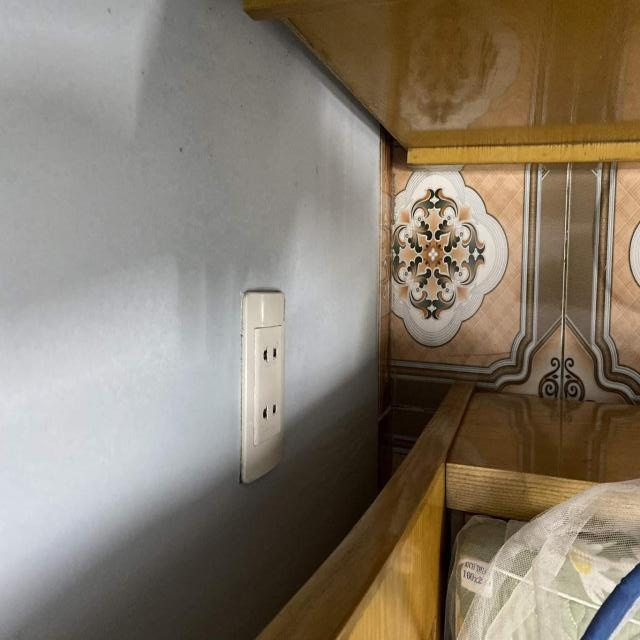outlet: (240, 291, 286, 485)
